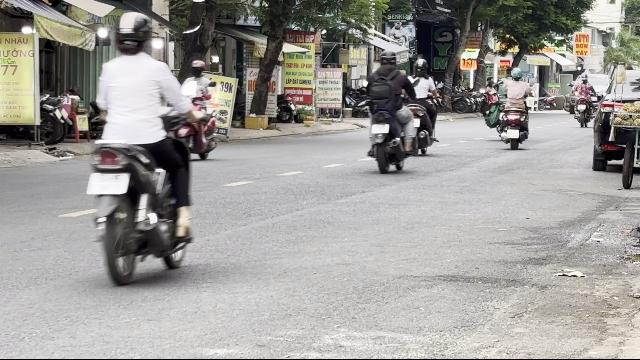helmet: (112, 10, 156, 56), (379, 49, 397, 67), (190, 60, 204, 76)
licenseplate: (86, 172, 130, 194), (372, 124, 388, 134)
motorcyclist: (82, 9, 204, 283), (363, 49, 413, 172), (177, 60, 219, 160)
